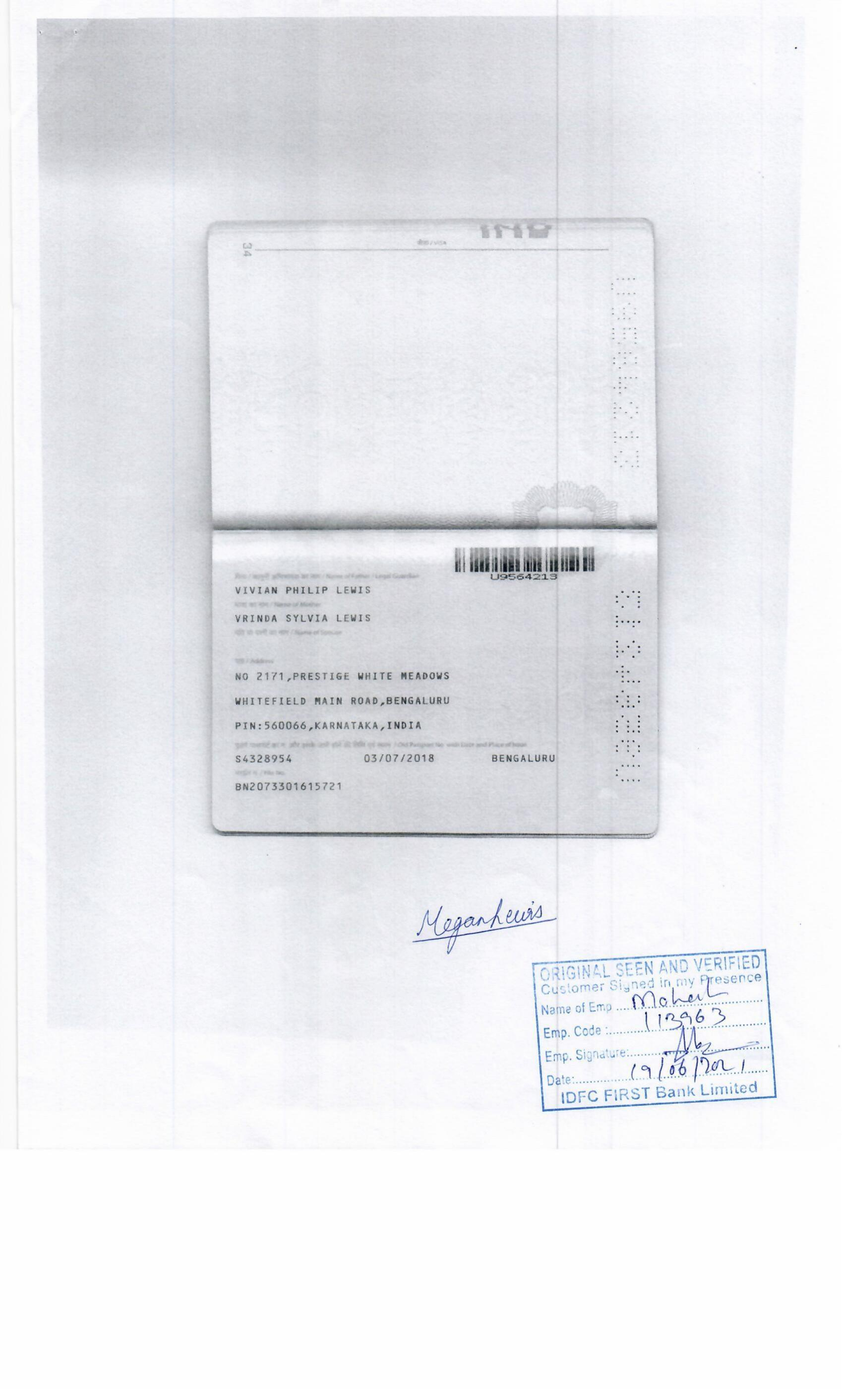File_no: (231, 780, 352, 795)
address: (223, 656, 470, 739)
father_name: (216, 582, 391, 611)
mother_name: (228, 607, 376, 630)
old_passport_details: (225, 750, 561, 770)
passport_no: (488, 568, 563, 588)
